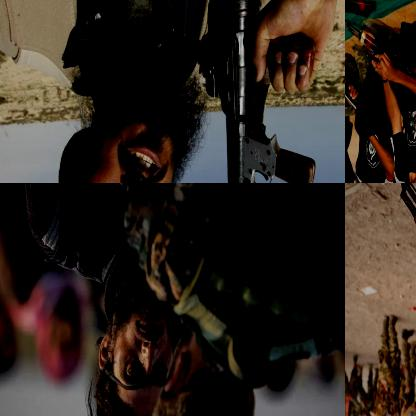rifle: (199, 0, 318, 182), (376, 183, 415, 410), (345, 10, 415, 106), (345, 34, 362, 110)
